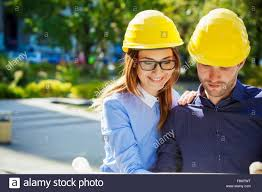Person_wearing_helmet: (183, 6, 253, 74), (119, 4, 182, 68)
